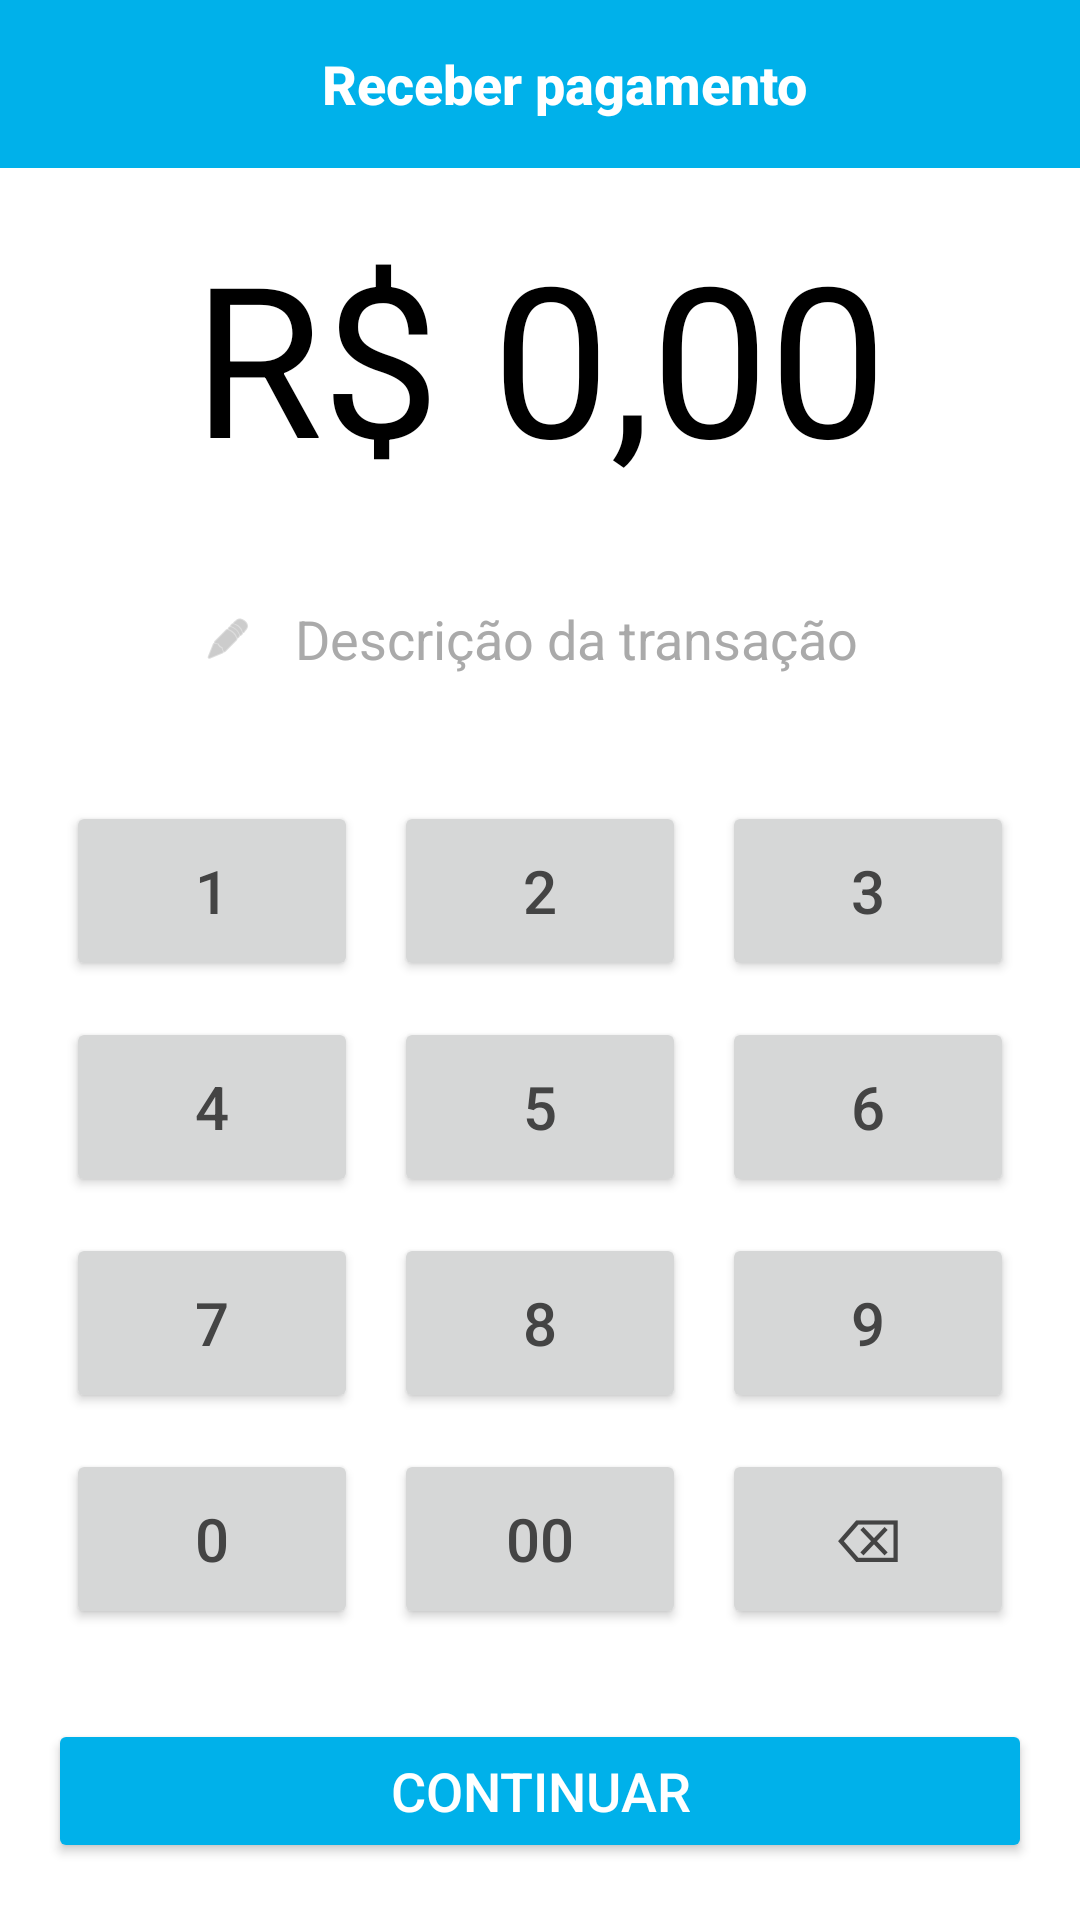

Icon click points for this 1080px×1920px phone screenshot, format [x,y]:
edit: [228,639]
